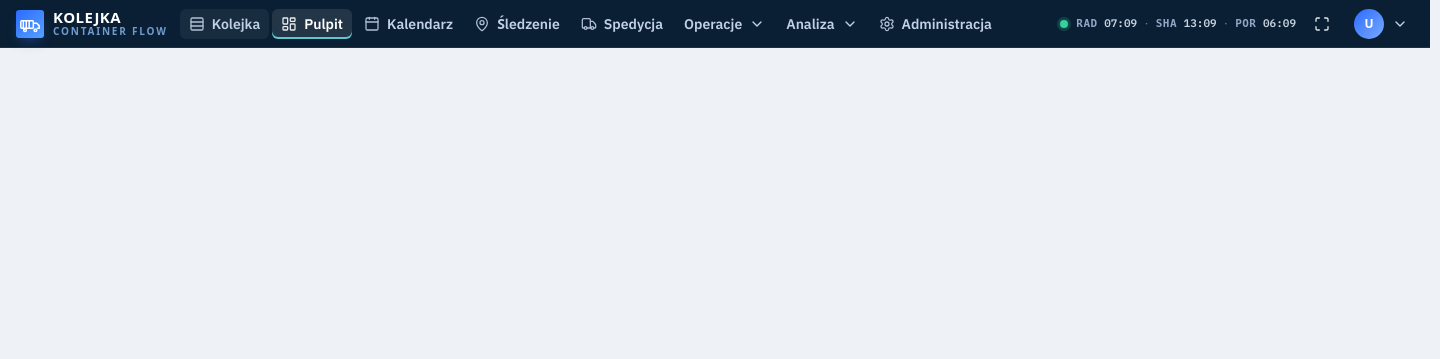
Test case: Górny pasek 48 px › „Analiza rozładunków" jest PIERWSZĄ pozycją menu Analiza i prowadzi do zakładki analysis kolejki
What coordinates should you click on to do the following:
click the button "Analiza"
I would click on:
 (822, 24)
Its box is [777,8,866,38].
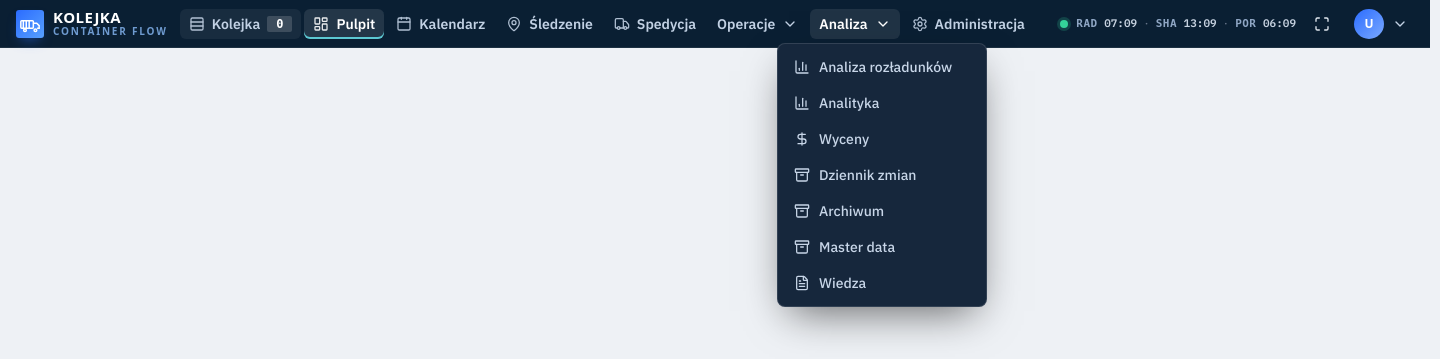
Check: the link with class "tn-drop-link" reads "Analiza rozładunków", box [794,58,952,76]
